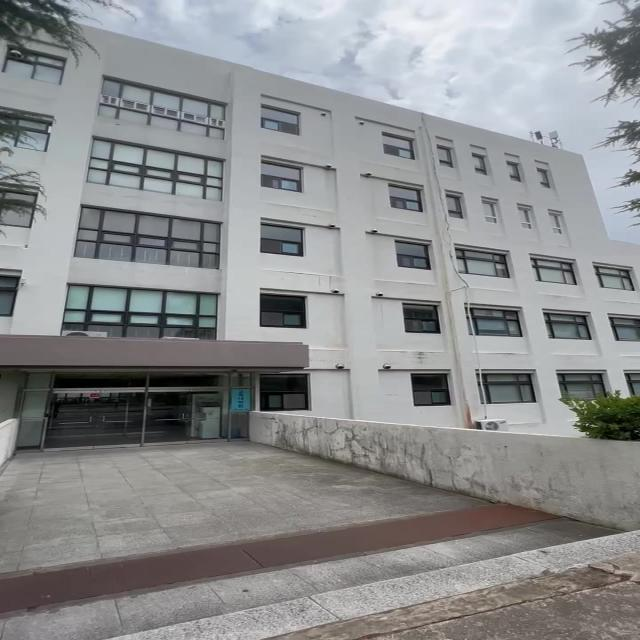building: (12, 81, 601, 472)
